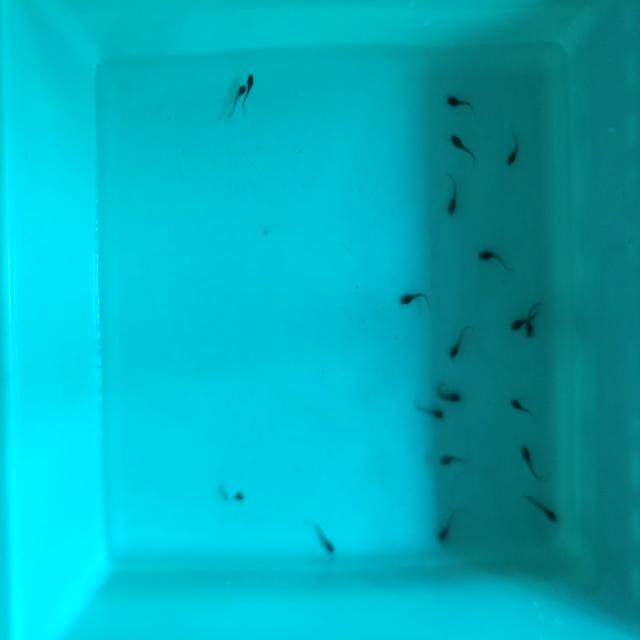lele: (518, 484, 565, 525), (306, 515, 338, 558), (516, 439, 543, 484), (446, 323, 474, 363), (447, 129, 478, 165), (408, 395, 447, 422), (476, 246, 513, 272), (436, 505, 460, 545), (443, 92, 479, 118), (506, 306, 540, 332), (505, 393, 537, 418), (525, 296, 541, 344), (226, 82, 247, 118), (435, 381, 464, 406), (445, 167, 459, 216), (506, 129, 522, 171), (240, 72, 255, 113), (398, 289, 431, 306), (436, 450, 467, 468), (230, 491, 247, 502)
